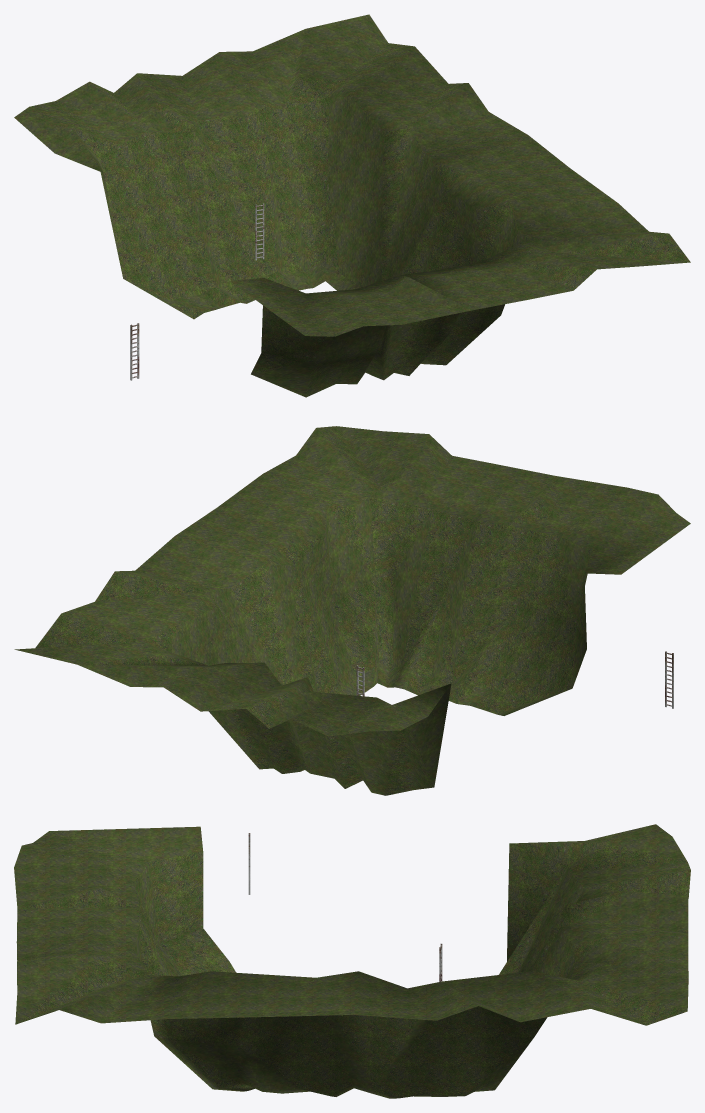
Rendered from passthrough.obj.
The picture shows the model from 3 angles, top to bottom: view 1: azimuth 30°, elevation 25°; view 2: azimuth 150°, elevation 25°; view 3: azimuth 270°, elevation 25°; orthographic projection. The views are drawn at different scales.
Parts seen in each view (by area): view 1: Plane.002, Cube; view 2: Plane.002, Cube; view 3: Plane.002.
Part boxes in pixels (x1=…): Plane.002: x1=14, y1=14, x2=690, y2=397; Cube: x1=130, y1=203, x2=264, y2=380; Plane.002: x1=14, y1=426, x2=690, y2=795; Cube: x1=356, y1=651, x2=673, y2=708; Plane.002: x1=14, y1=824, x2=690, y2=1098.
Bounding box in the file's own units: 34.57 × 11.88 × 43.22.
